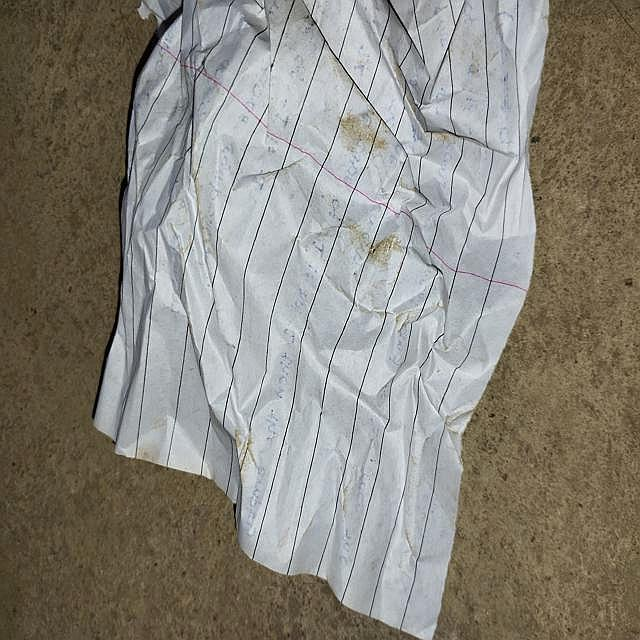Biodegradable: (93, 1, 545, 640)
